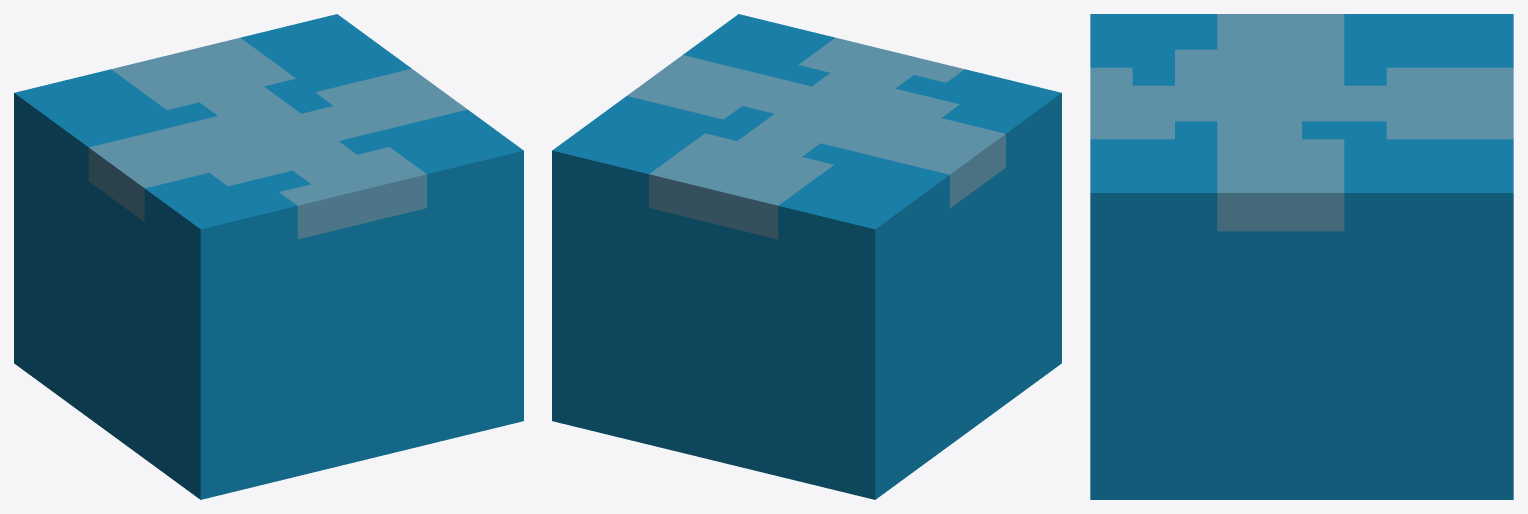
File: WaterTile.vox.obj
The picture shows the model from 3 angles, left to right: view 1: azimuth 30°, elevation 25°; view 2: azimuth 150°, elevation 25°; view 3: azimuth 270°, elevation 25°; orthographic projection. The views are drawn at different scales.
Bounding box in the file's own units: 1 × 0.8 × 1.
Materials: 1 (1 with a texture image).
